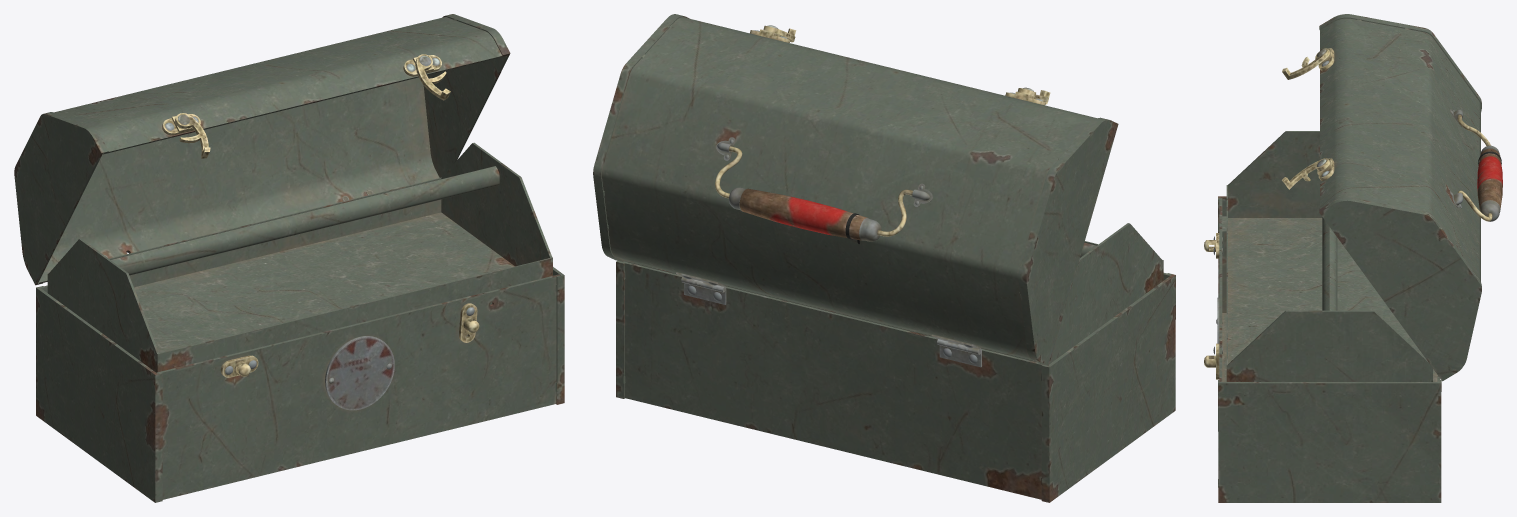
The model's file is metal_toolbox.glb.
3 renders of one model, left to right at view 1: azimuth 30°, elevation 25°; view 2: azimuth 150°, elevation 25°; view 3: azimuth 270°, elevation 25°, orthographic. The views are drawn at different scales.
Parts seen in each view (by area): view 1: metal_toolbox_lid, metal_toolbox, metal_toolbox_tray, metal_toolbox_handle_latch_r, metal_toolbox_handle_latch_l; view 2: metal_toolbox_lid, metal_toolbox, metal_toolbox_tray, metal_toolbox_handle; view 3: metal_toolbox_lid, metal_toolbox_tray, metal_toolbox, metal_toolbox_handle, metal_toolbox_handle_latch_l, metal_toolbox_handle_latch_r.
Boxes of the visible parts, bbox=[...] form: metal_toolbox_lid: bbox=[14, 14, 510, 285]; metal_toolbox: bbox=[36, 267, 564, 502]; metal_toolbox_tray: bbox=[47, 142, 552, 372]; metal_toolbox_handle_latch_r: bbox=[415, 54, 450, 100]; metal_toolbox_handle_latch_l: bbox=[175, 113, 210, 158]; metal_toolbox_lid: bbox=[593, 14, 1118, 365]; metal_toolbox: bbox=[616, 260, 1175, 502]; metal_toolbox_tray: bbox=[628, 223, 1163, 363]; metal_toolbox_handle: bbox=[715, 146, 912, 244]; metal_toolbox_lid: bbox=[1317, 14, 1481, 381]; metal_toolbox_tray: bbox=[1226, 131, 1432, 381]; metal_toolbox: bbox=[1204, 196, 1441, 502]; metal_toolbox_handle: bbox=[1457, 114, 1502, 221]; metal_toolbox_handle_latch_l: bbox=[1282, 48, 1330, 79]; metal_toolbox_handle_latch_r: bbox=[1282, 158, 1330, 189].
Bounding box in the file's own units: 0.4 × 0.3047 × 0.2705.
1 material, 1 textured.
